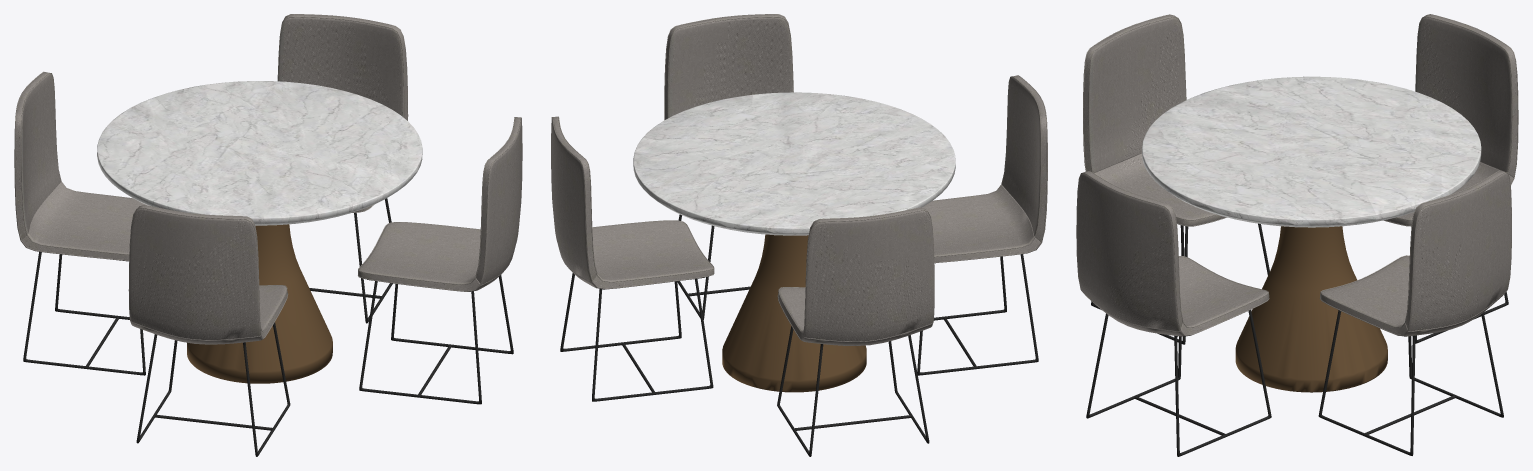
Rendered from dining_table_3.glb.
The picture shows the model from 3 angles, left to right: view 1: azimuth 30°, elevation 25°; view 2: azimuth 150°, elevation 25°; view 3: azimuth 270°, elevation 25°; orthographic projection. The views are drawn at different scales.
Visible parts, largest first — view 1: Table, Plane002, Plane004, Plane001, Plane003; view 2: Table, Plane001, Plane003, Plane002, Plane004; view 3: Table, Plane004, Plane003, Plane002, Plane001.
Boxes of the visible parts, x1,y1,x2,y2 form: Table: (97, 81, 422, 383); Plane002: (128, 205, 290, 456); Plane004: (358, 117, 522, 404); Plane001: (14, 71, 146, 375); Plane003: (277, 14, 408, 323); Table: (633, 92, 955, 392); Plane001: (777, 207, 934, 456); Plane003: (551, 116, 714, 401); Plane002: (917, 75, 1047, 375); Plane004: (664, 14, 793, 319); Table: (1142, 76, 1481, 392); Plane004: (1076, 171, 1271, 456); Plane003: (1318, 170, 1511, 455); Plane002: (1083, 14, 1269, 344); Plane001: (1383, 14, 1518, 343).
Size of the model in its own units: 1.52 by 0.9014 by 1.43.
Materials: 2 (2 with a texture image).
